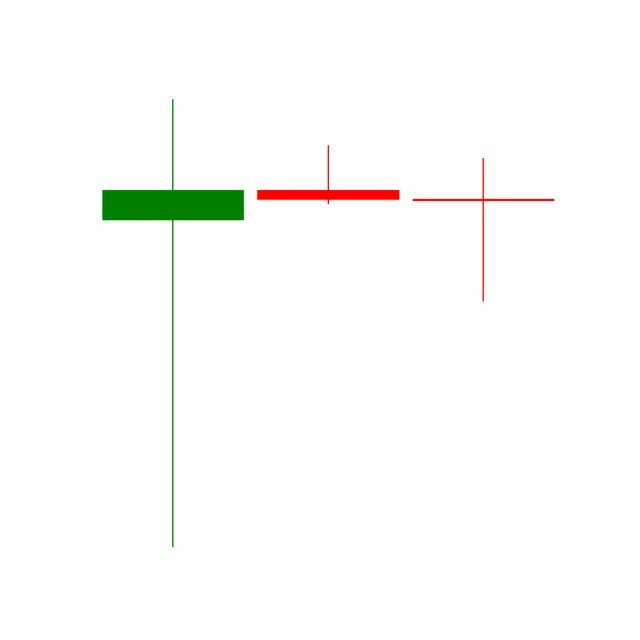Spinning Top: (406, 156, 562, 304)
